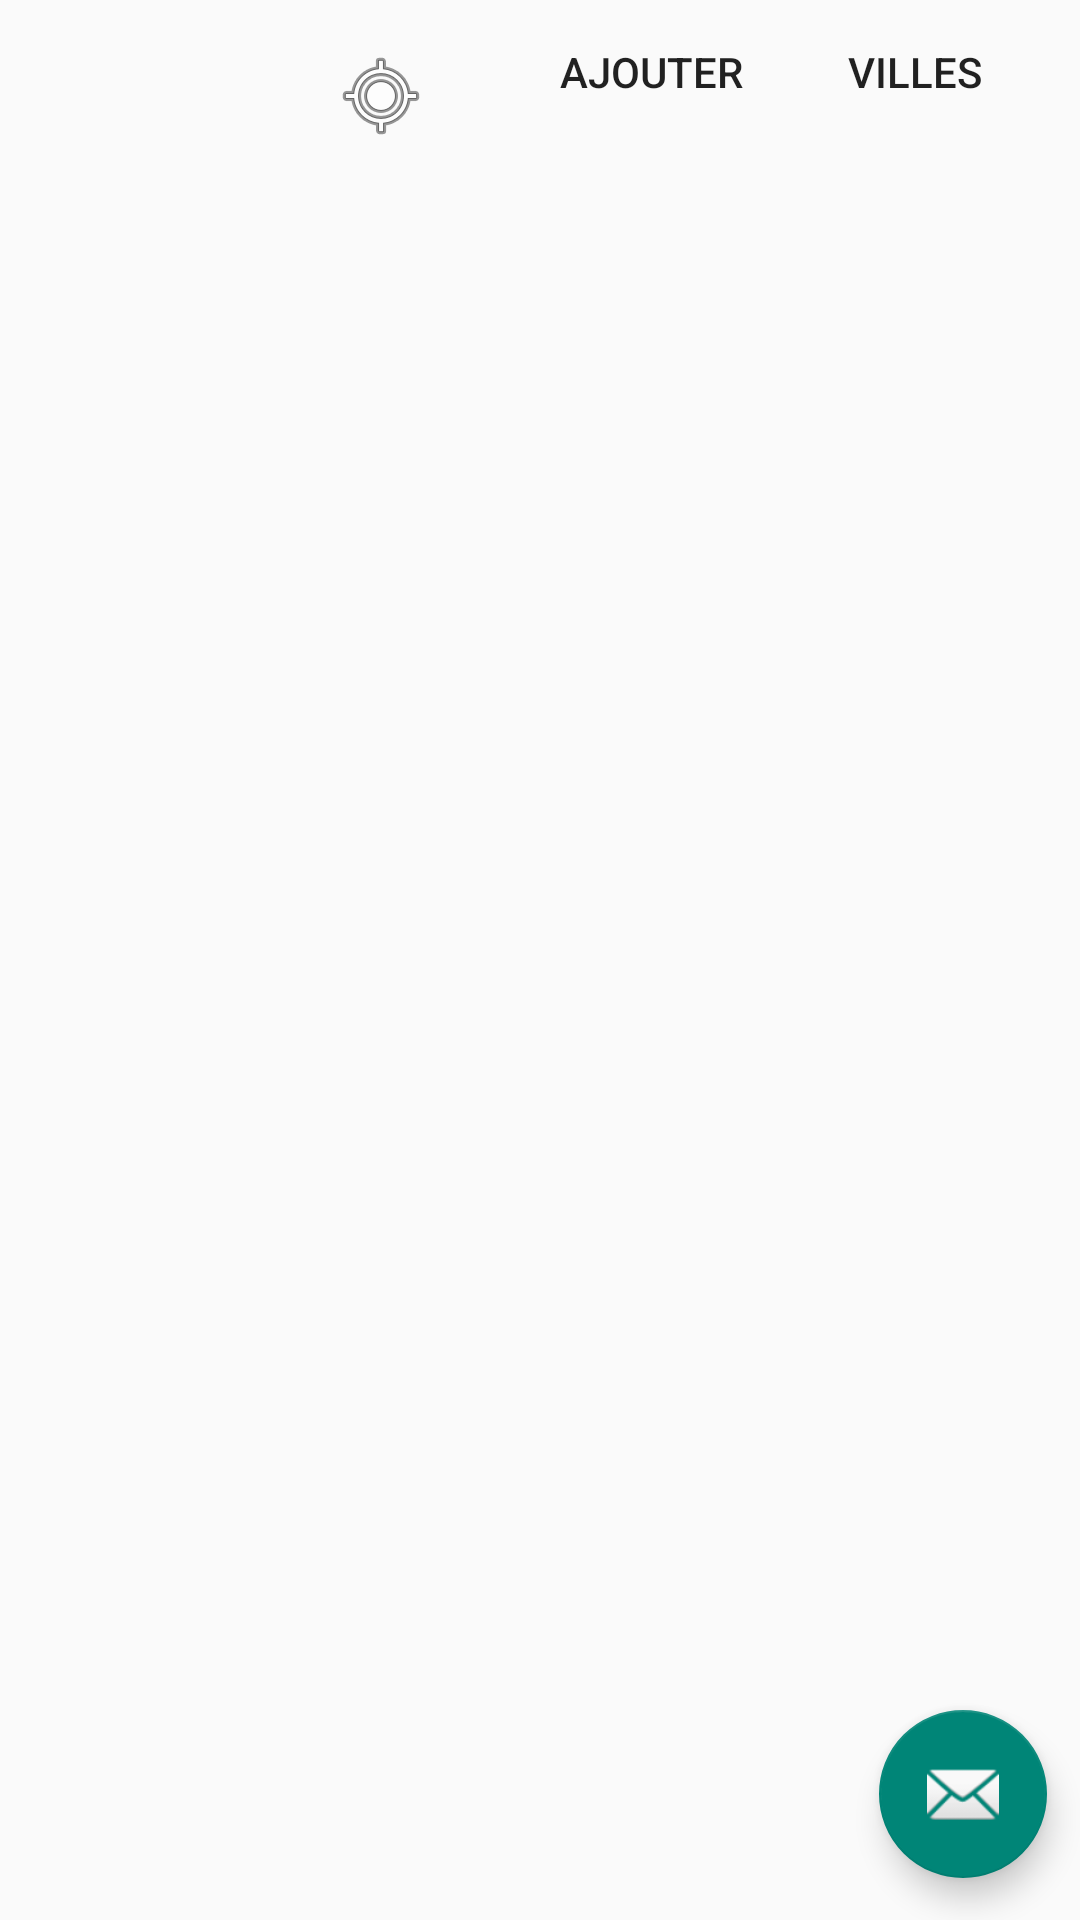

Screen size 1080px×1920px. Icon name, then its center in pixels as [x,y]:
email: [963,1794]
mylocation: [381,96]
